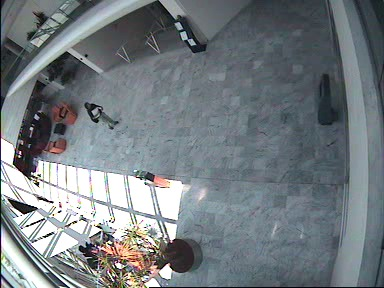person: (84, 102, 119, 130)
